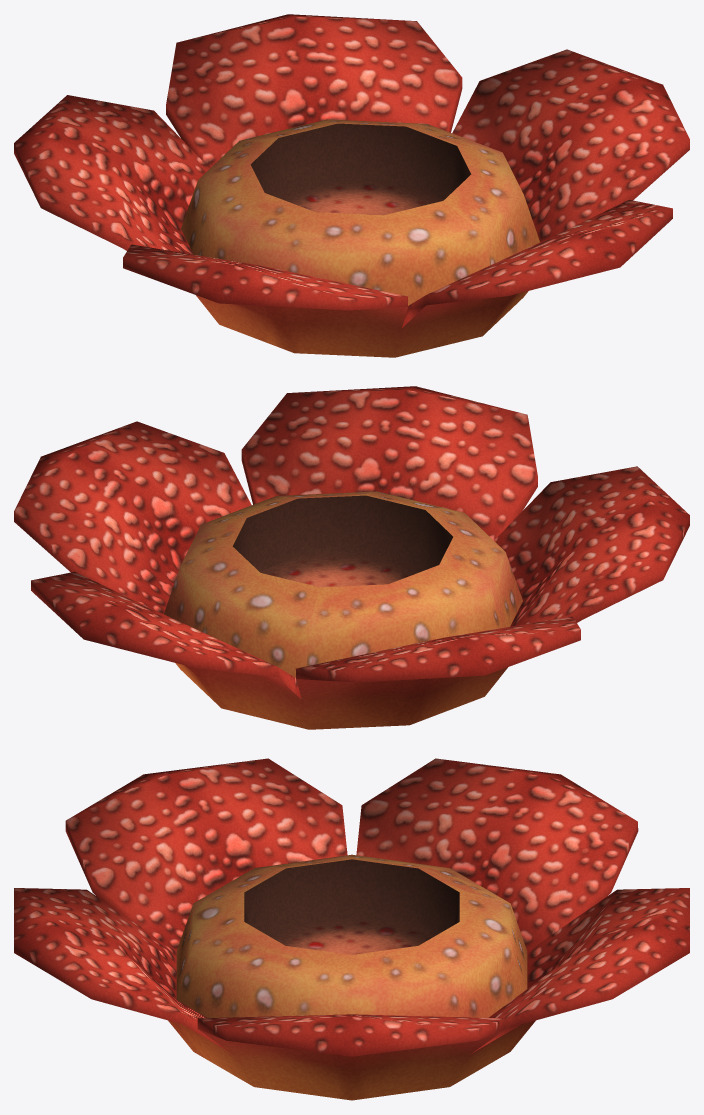
The model's file is Rafflesia.FBX.
3 renders of one model, top to bottom at view 1: azimuth 30°, elevation 25°; view 2: azimuth 150°, elevation 25°; view 3: azimuth 270°, elevation 25°, orthographic.
Visible parts, largest first — view 1: Rafflesia; view 2: Rafflesia; view 3: Rafflesia.
Boxes of the visible parts, box(x1,y1,x2,y2) form: Rafflesia: box(14, 14, 689, 357); Rafflesia: box(14, 386, 689, 729); Rafflesia: box(14, 758, 689, 1100).
Bounding box in the file's own units: 441 × 128 × 436.
